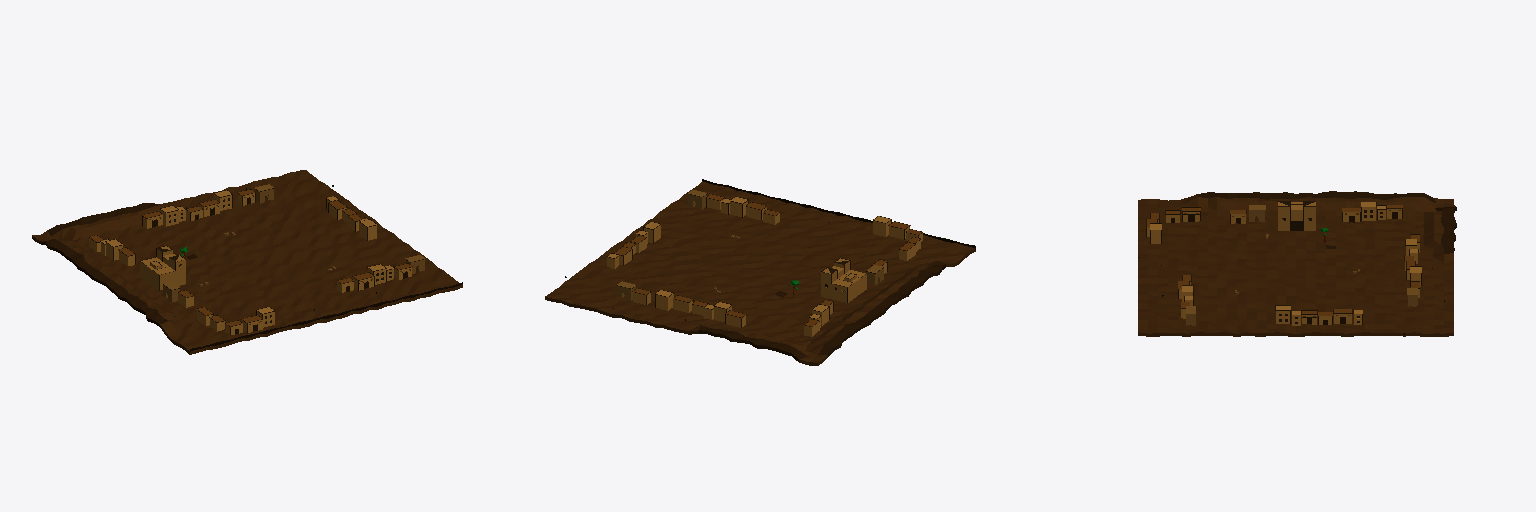
Rendered from Shechem.obj.
The picture shows the model from 3 angles: view 1: azimuth 30°, elevation 25°; view 2: azimuth 150°, elevation 25°; view 3: azimuth 270°, elevation 25°; orthographic projection.
Parts seen in each view (by area): view 1: Plane_Plane.001, Cube.115_Cube.000, Cube; view 2: Plane_Plane.001, Cube.115_Cube.000; view 3: Plane_Plane.001, Cube.115_Cube.000.
Boxes of the visible parts, box(x1,y1,x2,y2) form: Plane_Plane.001: box(32, 170, 462, 354); Cube.115_Cube.000: box(140, 245, 185, 290); Cube: box(190, 282, 462, 351); Plane_Plane.001: box(545, 181, 975, 365); Cube.115_Cube.000: box(821, 258, 866, 302); Plane_Plane.001: box(1138, 191, 1456, 336); Cube.115_Cube.000: box(1278, 201, 1315, 230).
Size of the model in its own units: 549 by 55.04 by 600.